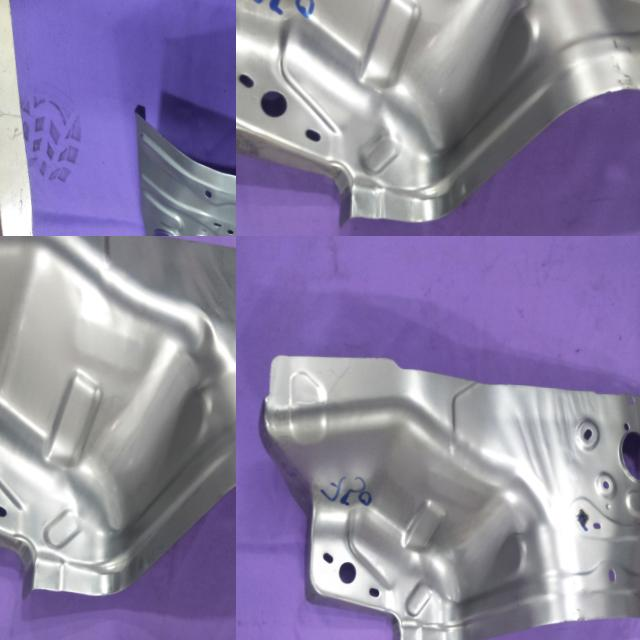Healthy: (249, 349, 640, 640), (236, 0, 640, 236), (0, 236, 236, 617)
